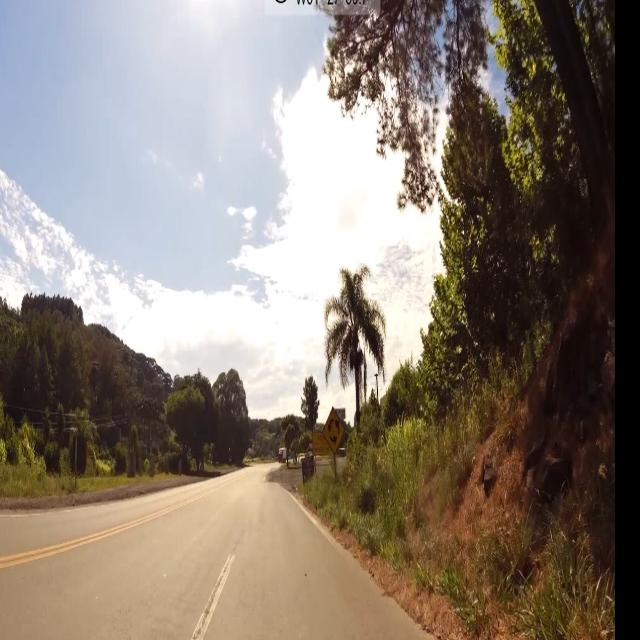A-12: (324, 408, 345, 454)
